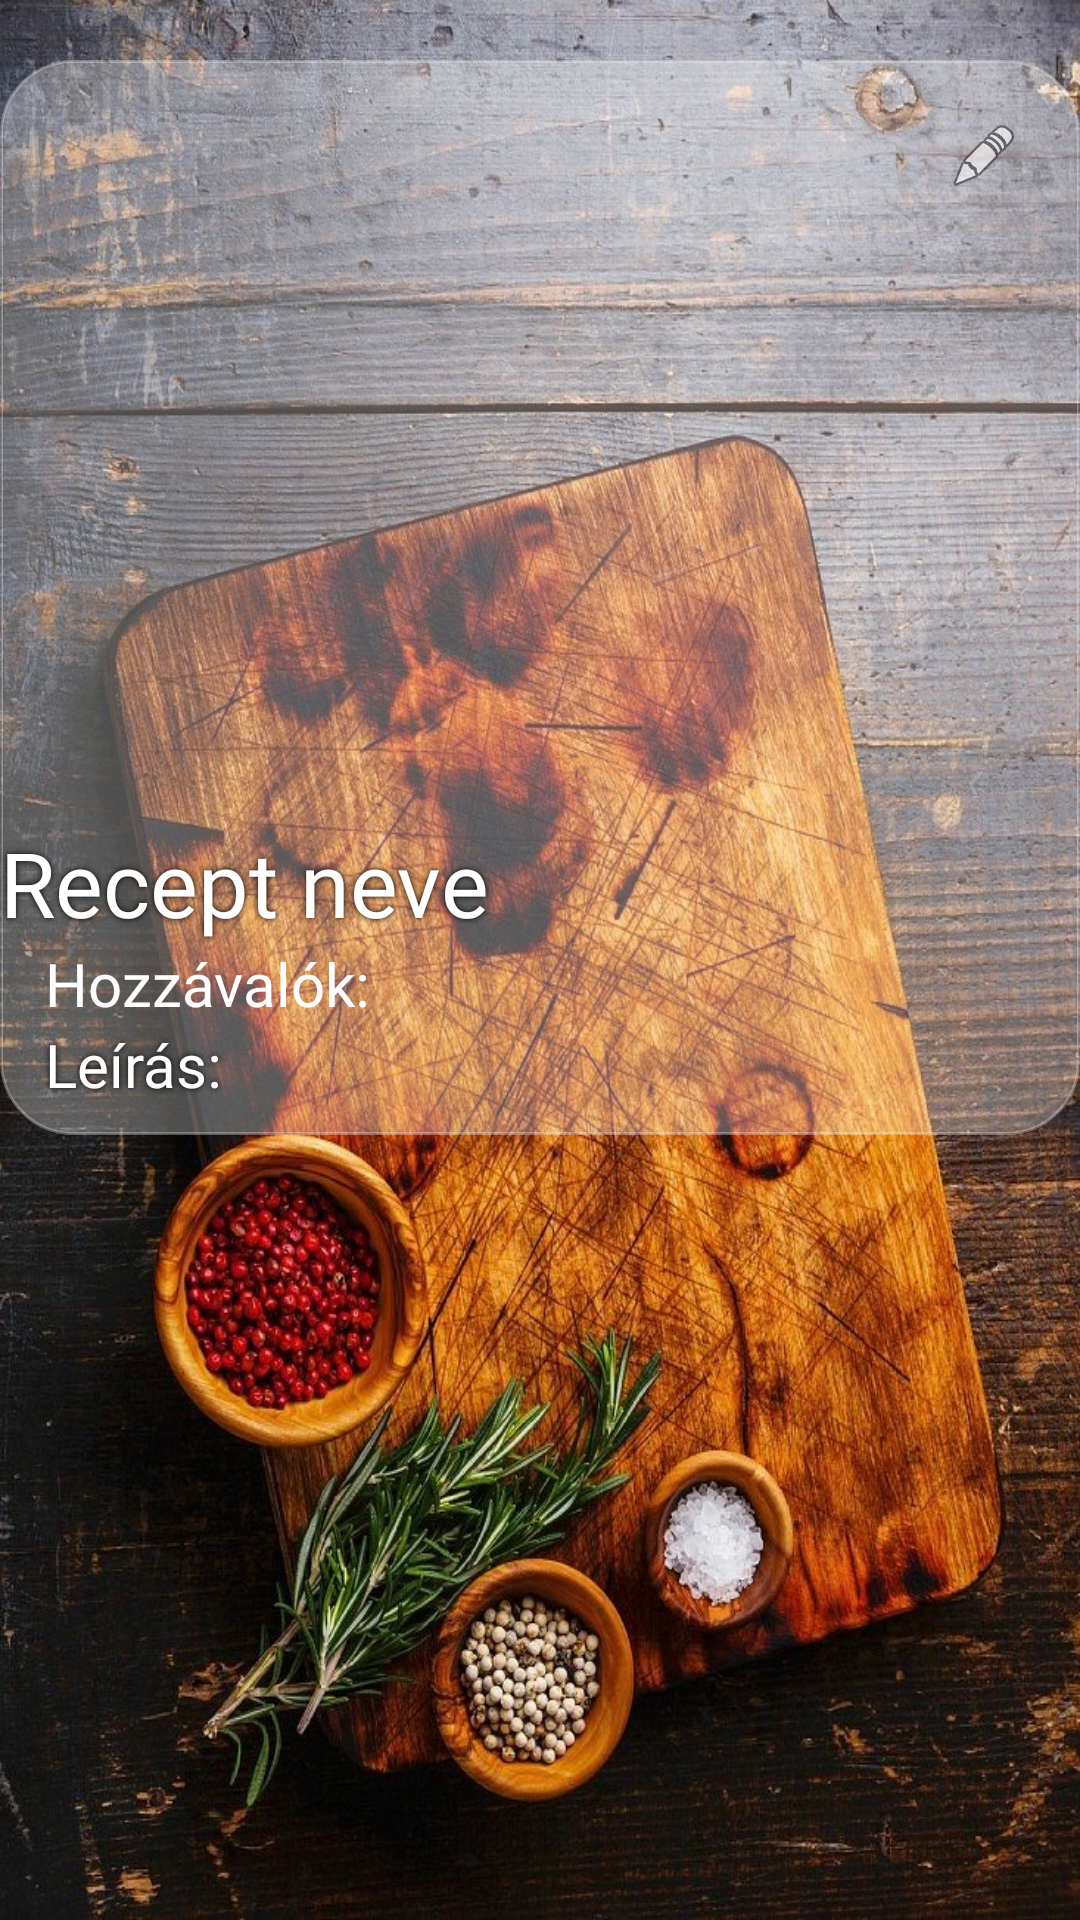

Named icons in this screenshot (1080w x 1920h) and their centers, [x,y]:
Szerkesztés: [984,156]
